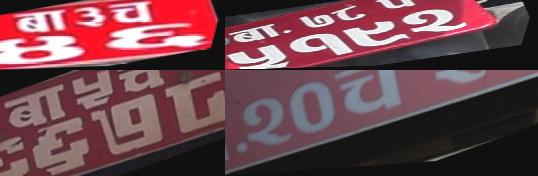0: (278, 71, 349, 147)
1: (279, 28, 365, 64)
2: (231, 86, 303, 161), (393, 5, 482, 39), (416, 70, 500, 103)
3: (66, 4, 118, 32)
4: (0, 26, 96, 70)
5: (64, 70, 121, 118), (225, 43, 303, 70)
6: (24, 111, 102, 176), (0, 131, 42, 176)
7: (84, 89, 177, 169), (293, 11, 343, 31)
8: (157, 70, 225, 145), (325, 3, 378, 24)
9: (332, 16, 421, 52)
ba: (0, 77, 74, 138), (6, 5, 77, 39), (225, 21, 297, 47), (225, 103, 247, 176)
cha: (324, 70, 425, 135), (96, 12, 222, 62), (108, 70, 178, 103), (100, 0, 164, 30)
pa: (365, 0, 428, 14)
